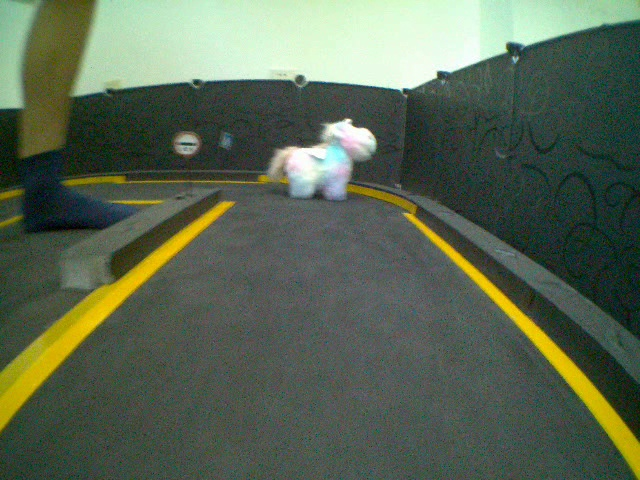unicorn: (260, 116, 380, 207)
